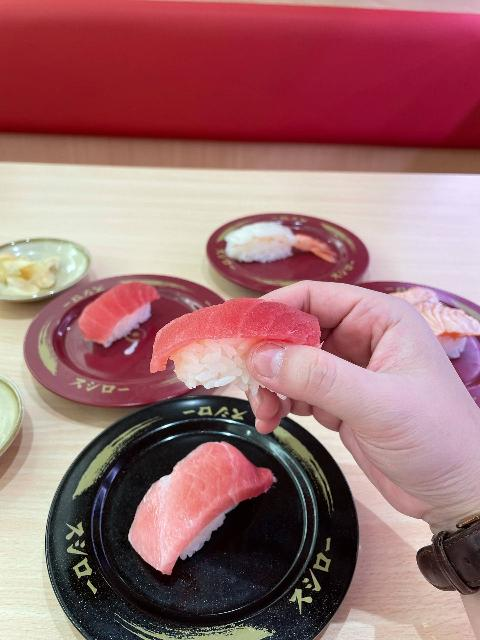janback: (65, 406, 338, 640)
janred: (0, 252, 227, 390), (180, 209, 366, 300)
